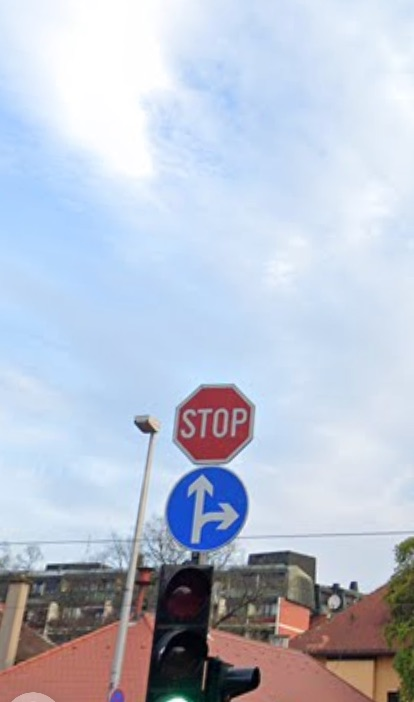Obavezno zaustavljanje: (173, 384, 255, 464)
